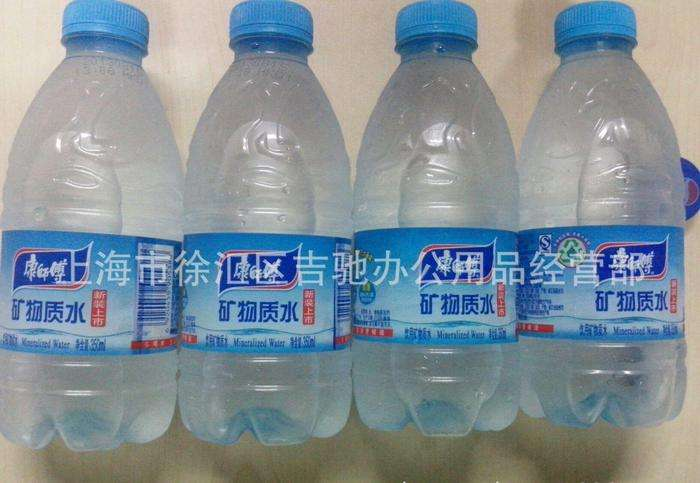amwater: (511, 1, 698, 441), (183, 1, 357, 452), (7, 4, 176, 455), (355, 7, 522, 453)
